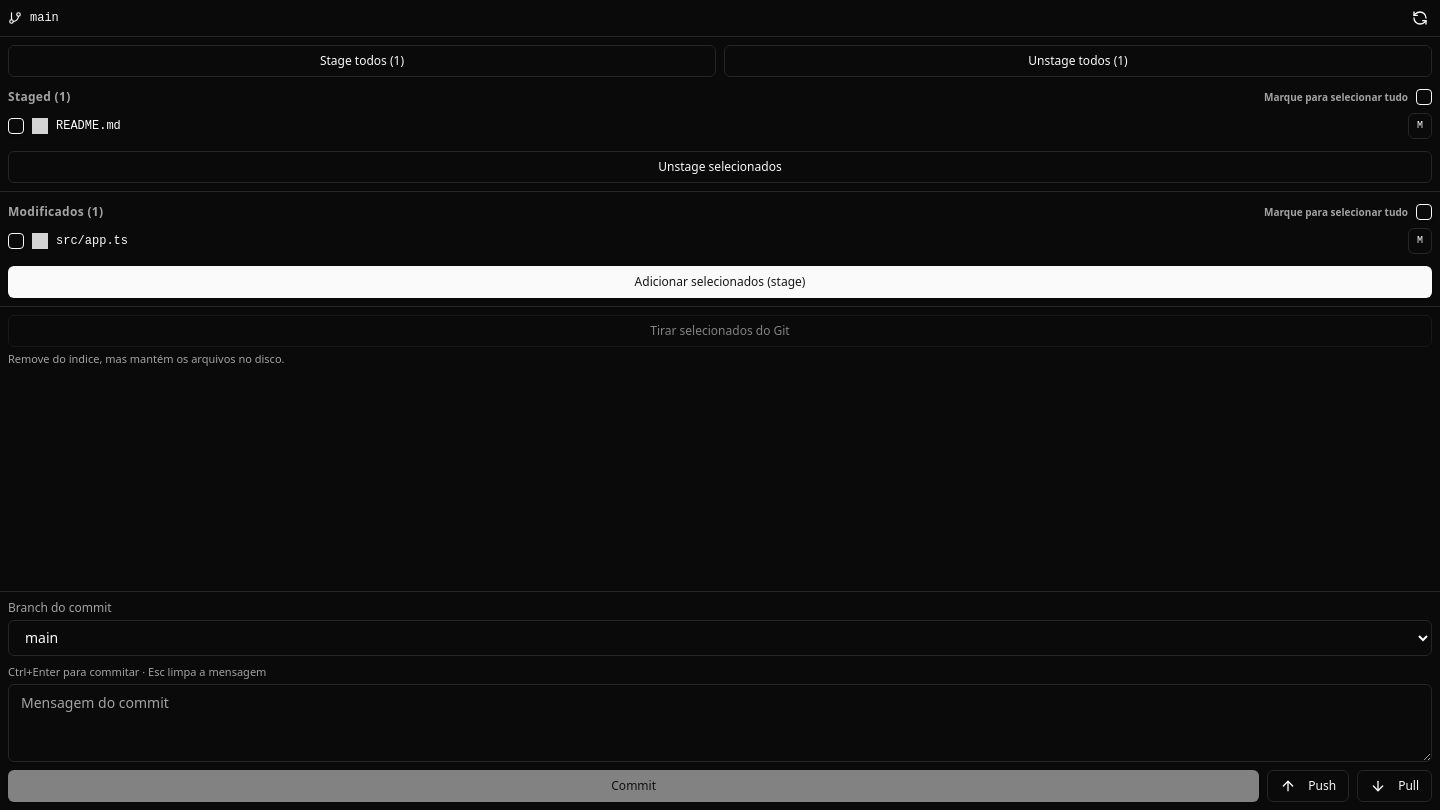
<GitPanel /> › só habilita commit quando existe mensagem
Check: the button "Commit" is disabled, box 8,770 -> 1259,802
Type "feat: enable commit" into the text box with placeholder "Mensagem do commit". click: point(720, 723)
box: 8,684 -> 1432,762
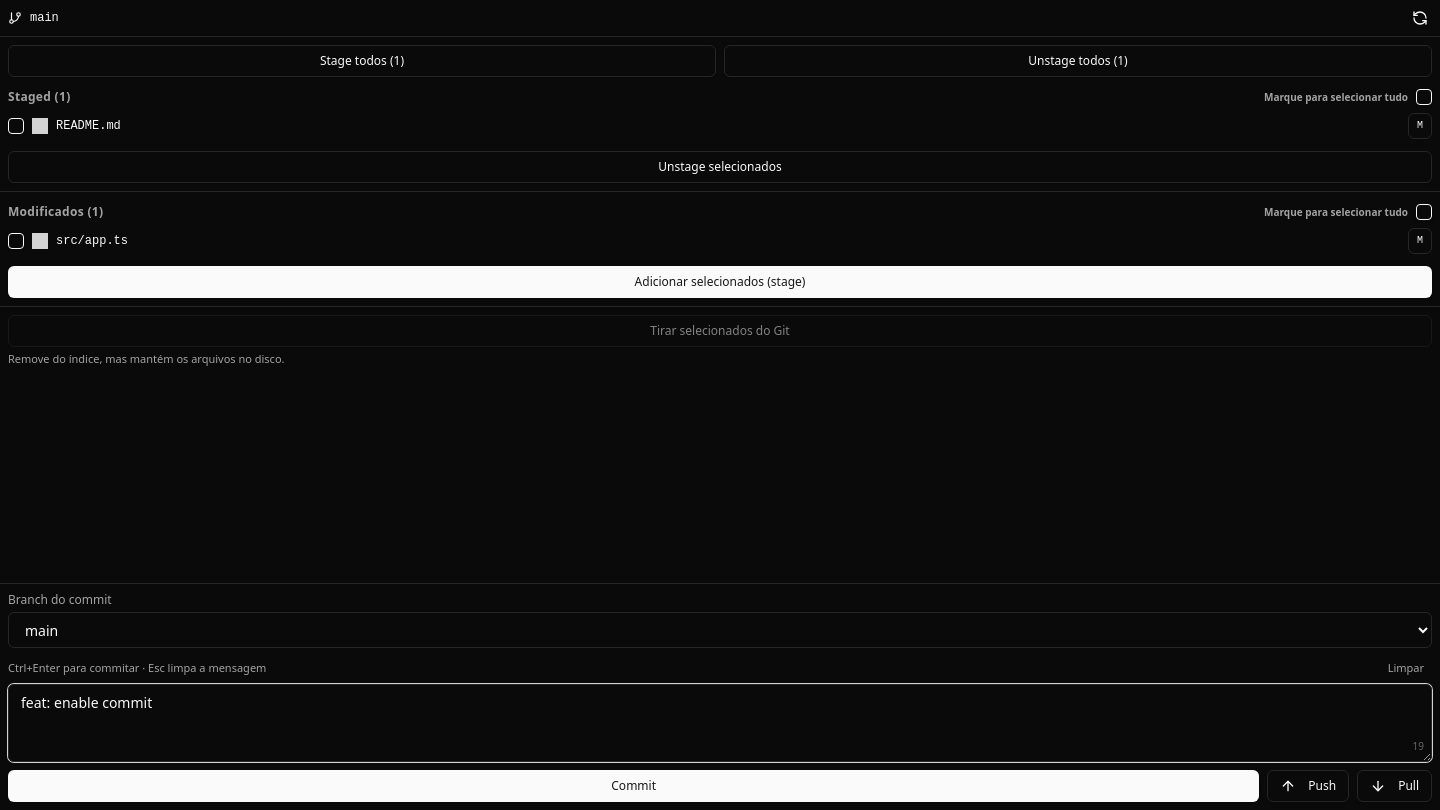
Check: the button "Commit" is enabled, box 8,770 -> 1259,802
